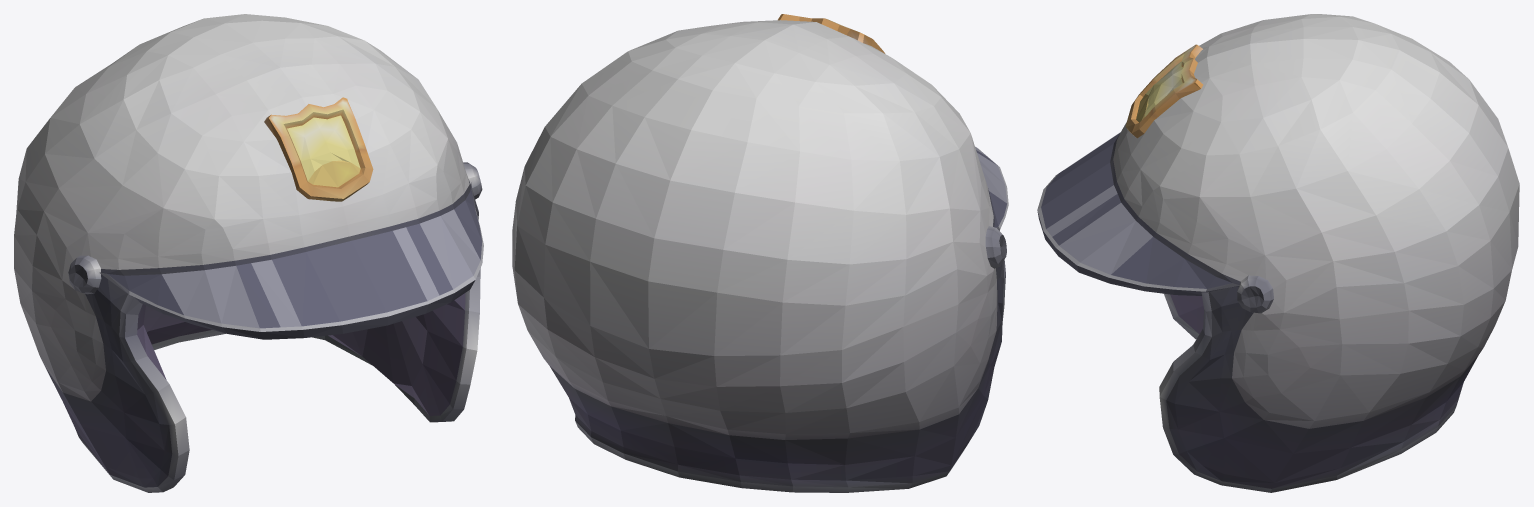
Rendered from PoliceHelmet.glb.
3 renders of one model, left to right at view 1: azimuth 30°, elevation 25°; view 2: azimuth 150°, elevation 25°; view 3: azimuth 270°, elevation 25°, orthographic. The views are drawn at different scales.
Visible parts, largest first — view 1: PoliceHelmet; view 2: PoliceHelmet; view 3: PoliceHelmet.
Boxes of the visible parts, <box> form: PoliceHelmet: <box>14,14,483,492</box>; PoliceHelmet: <box>512,14,1008,492</box>; PoliceHelmet: <box>1037,14,1519,492</box>.
Bounding box in the file's own units: 0.6223 × 0.5636 × 0.6493.
